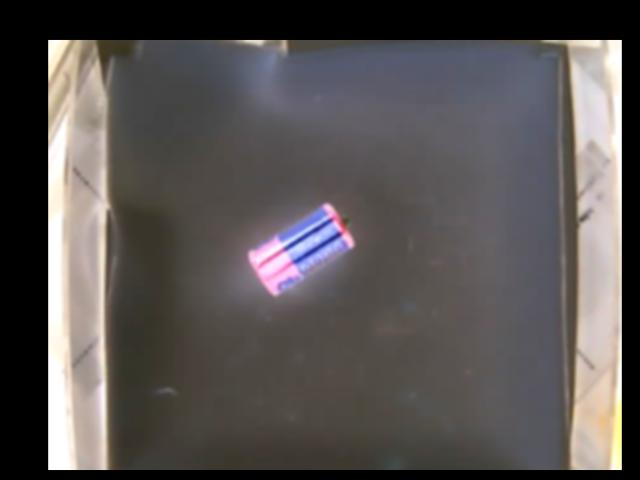Battery: (247, 201, 357, 297)
